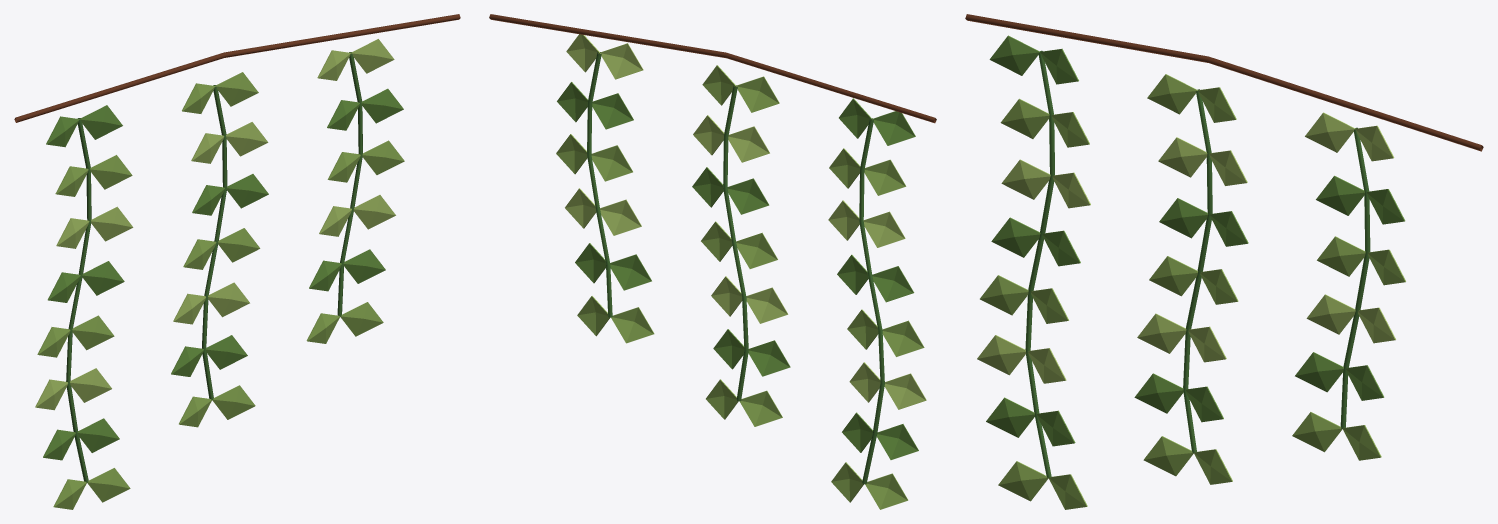
The model's file is wall_vines.fbx.
The picture shows the model from 3 angles, left to right: view 1: azimuth 30°, elevation 25°; view 2: azimuth 150°, elevation 25°; view 3: azimuth 330°, elevation 25°; orthographic projection. The views are drawn at different scales.
Parts seen in each view (by area): view 1: wall_vines; view 2: wall_vines; view 3: wall_vines.
Part boxes in pixels (x1=…): wall_vines: x1=14, y1=14, x2=460, y2=509; wall_vines: x1=489, y1=14, x2=936, y2=509; wall_vines: x1=965, y1=14, x2=1483, y2=509.
Size of the model in its own units: 0.9809 by 0.8862 by 0.028.
